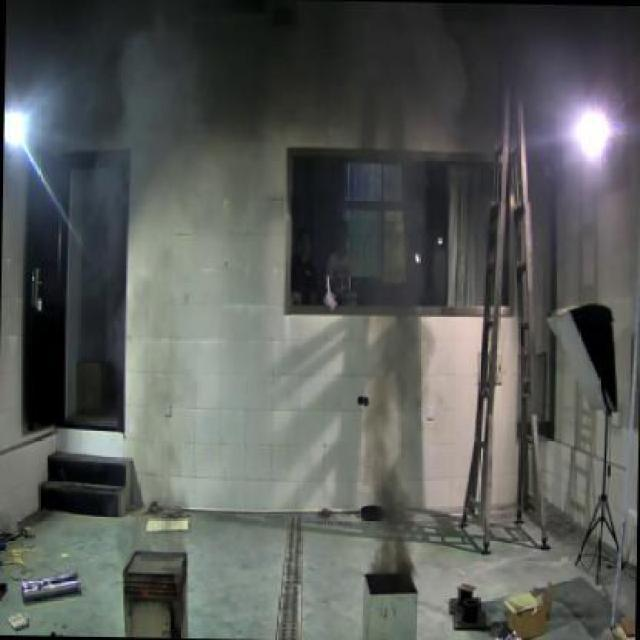fire: (362, 340, 422, 571)
